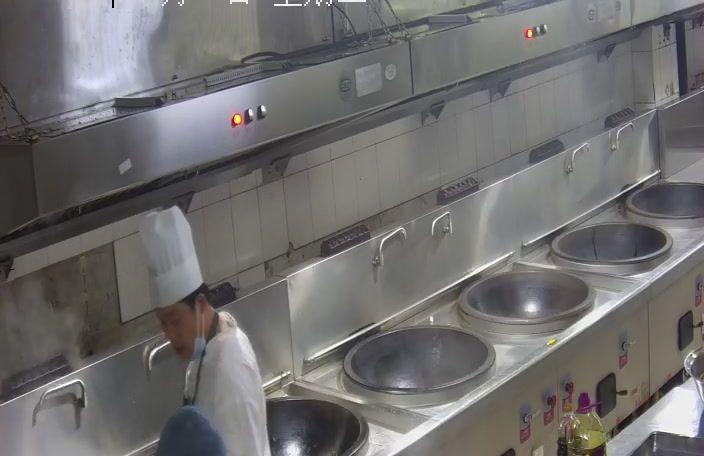mask: (164, 306, 200, 362)
